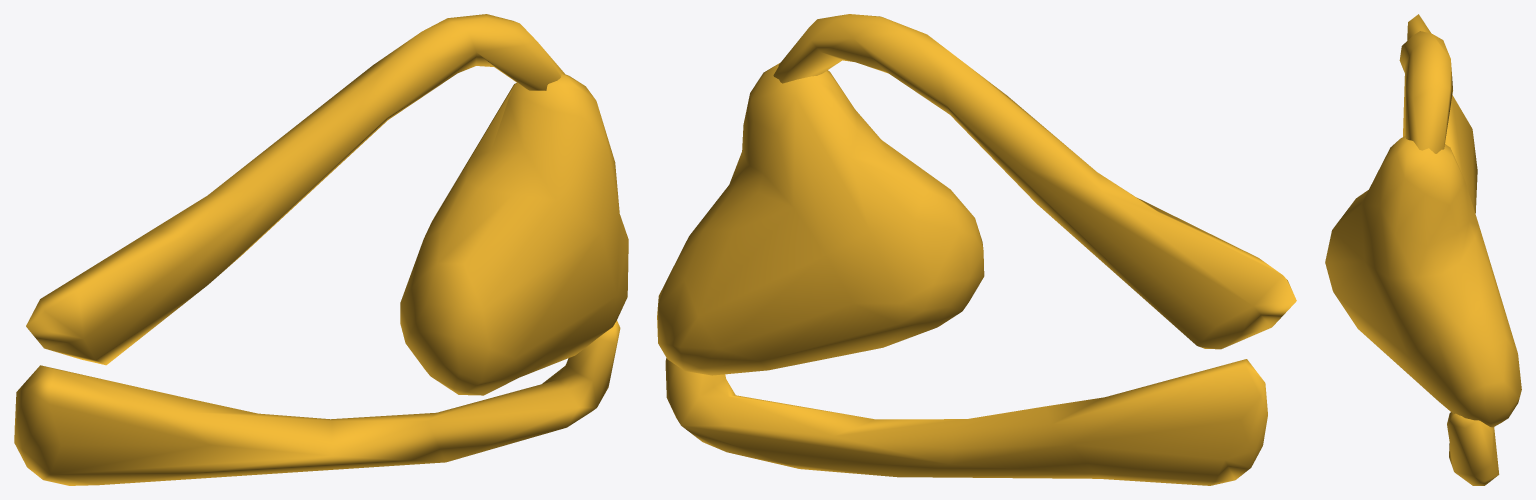
Rendered from nervoso-lacrimal-canaliculus-l.glb.
3 renders of one model, left to right at view 1: azimuth 30°, elevation 25°; view 2: azimuth 150°, elevation 25°; view 3: azimuth 270°, elevation 25°, orthographic. The views are drawn at different scales.
Visible parts, largest first — view 1: Lacrimal canaliculus.l, Ampulla of lacrimal canaliculus.l; view 2: Lacrimal canaliculus.l, Ampulla of lacrimal canaliculus.l; view 3: Ampulla of lacrimal canaliculus.l, Lacrimal canaliculus.l.
Boxes of the visible parts, box(x1,y1,x2,y2) form: Lacrimal canaliculus.l: box(14, 14, 620, 485); Ampulla of lacrimal canaliculus.l: box(400, 74, 628, 395); Lacrimal canaliculus.l: box(665, 14, 1296, 485); Ampulla of lacrimal canaliculus.l: box(657, 63, 984, 375); Ampulla of lacrimal canaliculus.l: box(1325, 136, 1521, 427); Lacrimal canaliculus.l: box(1399, 14, 1499, 485).
Size of the model in its own units: 0.00714 by 0.00501 by 0.0023.
